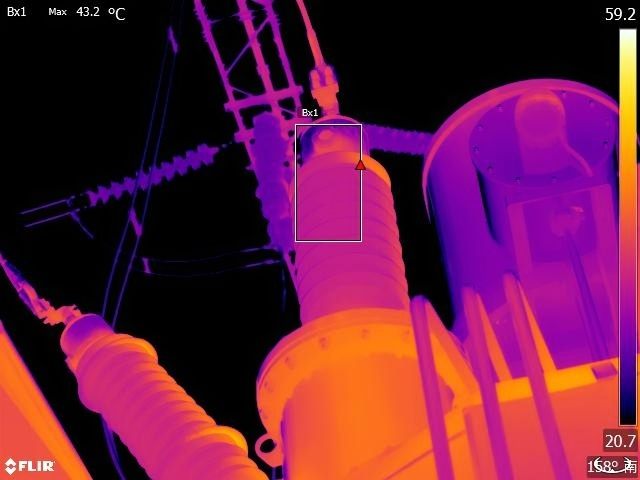clamp: (56, 187, 79, 225)
insulator: (87, 142, 233, 207), (246, 110, 294, 258), (362, 115, 430, 164)
tube: (266, 109, 457, 451), (33, 285, 267, 480)
